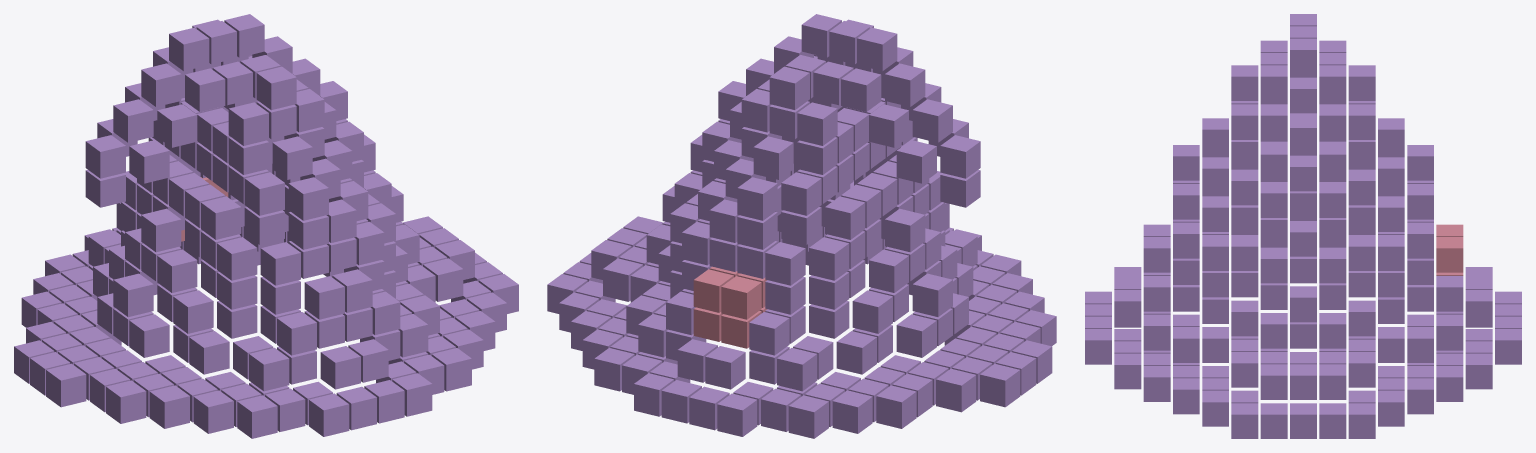
File: grimoirejs.gltf
3 views of the same model, side by side, from view 1: azimuth 30°, elevation 25°; view 2: azimuth 150°, elevation 25°; view 3: azimuth 270°, elevation 25° (orthographic). The views are drawn at different scales.
Size of the model in its own units: 47.76 by 32.76 by 44.76.
